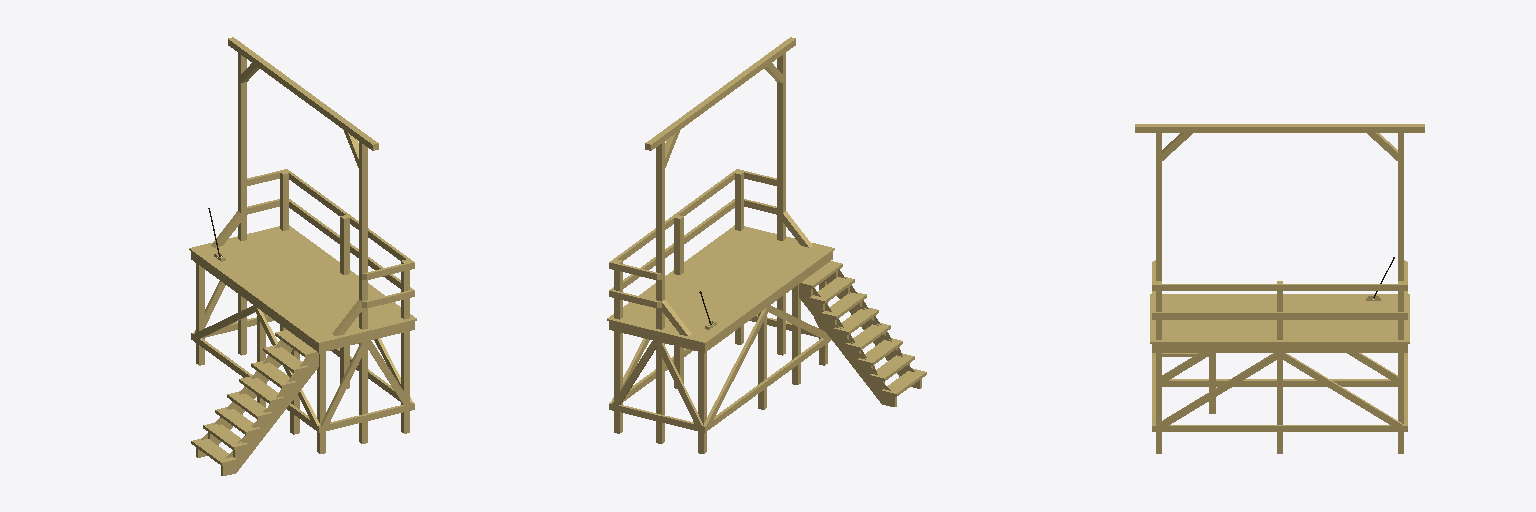
File: hung_wood.obj
The picture shows the model from 3 angles: view 1: azimuth 30°, elevation 25°; view 2: azimuth 150°, elevation 25°; view 3: azimuth 270°, elevation 25°; orthographic projection.
Visible parts, largest first — view 1: Mesh4 Group4 ske14D1 Model, Mesh11 Group11 ske14D1 Model, Mesh138 Group136 ske14D1 Model, Mesh128 Group126 ske14D1 Model, Mesh2 Group2 ske14D1 Model, Mesh9 Group9 ske14D1 Model, Mesh214 Group230 ske14D1 Model, Mesh39 Group39 ske14D1 Model, Mesh215 Group231 ske14D1 Model, Mesh8 Group8 ske14D1 Model, Mesh1 Group1 ske14D1 Model, Mesh139 Group137 ske14D1 Model (+14 smaller); view 2: Mesh11 Group11 ske14D1 Model, Mesh4 Group4 ske14D1 Model, Mesh139 Group137 ske14D1 Model, Mesh128 Group126 ske14D1 Model, Mesh13 Group13 ske14D1 Model, Mesh41 Group41 ske14D1 Model, Mesh9 Group9 ske14D1 Model, Mesh214 Group230 ske14D1 Model, Mesh39 Group39 ske14D1 Model, Mesh45 Group45 ske14D1 Model, Mesh138 Group136 ske14D1 Model, Mesh215 Group231 ske14D1 Model (+15 smaller); view 3: Mesh128 Group126 ske14D1 Model, Mesh7 Group7 ske14D1 Model, Mesh215 Group231 ske14D1 Model, Mesh214 Group230 ske14D1 Model, Mesh38 Group38 ske14D1 Model, Mesh41 Group41 ske14D1 Model, Mesh42 Group42 ske14D1 Model, Mesh43 Group43 ske14D1 Model, Mesh4 Group4 ske14D1 Model, Mesh11 Group11 ske14D1 Model, Mesh2 Group2 ske14D1 Model, Mesh13 Group13 ske14D1 Model (+1 smaller).
Part boxes in pixels (x1,y1,x2,y2): Mesh4 Group4 ske14D1 Model: (359, 141, 367, 443); Mesh11 Group11 ske14D1 Model: (238, 53, 246, 355); Mesh138 Group136 ske14D1 Model: (221, 355, 318, 475); Mesh128 Group126 ske14D1 Model: (228, 37, 378, 150); Mesh2 Group2 ske14D1 Model: (401, 259, 409, 433); Mesh9 Group9 ske14D1 Model: (191, 252, 321, 352); Mesh214 Group230 ske14D1 Model: (284, 169, 414, 268); Mesh39 Group39 ske14D1 Model: (340, 215, 349, 388); Mesh215 Group231 ske14D1 Model: (289, 199, 414, 296); Mesh8 Group8 ske14D1 Model: (322, 322, 411, 351); Mesh1 Group1 ske14D1 Model: (317, 352, 325, 453); Mesh139 Group137 ske14D1 Model: (196, 340, 292, 457); Mesh11 Group11 ske14D1 Model: (656, 141, 664, 443); Mesh4 Group4 ske14D1 Model: (777, 53, 785, 355); Mesh139 Group137 ske14D1 Model: (799, 286, 896, 406); Mesh128 Group126 ske14D1 Model: (645, 37, 795, 150); Mesh13 Group13 ske14D1 Model: (614, 259, 622, 433); Mesh41 Group41 ske14D1 Model: (707, 336, 830, 430); Mesh9 Group9 ske14D1 Model: (702, 252, 832, 352); Mesh214 Group230 ske14D1 Model: (609, 169, 739, 268); Mesh39 Group39 ske14D1 Model: (674, 215, 683, 388); Mesh45 Group45 ske14D1 Model: (704, 306, 768, 425); Mesh138 Group136 ske14D1 Model: (825, 269, 921, 388); Mesh215 Group231 ske14D1 Model: (609, 199, 734, 296); Mesh128 Group126 ske14D1 Model: (1135, 124, 1424, 132); Mesh7 Group7 ske14D1 Model: (1152, 344, 1407, 352); Mesh215 Group231 ske14D1 Model: (1152, 312, 1407, 319); Mesh214 Group230 ske14D1 Model: (1152, 284, 1407, 290); Mesh38 Group38 ske14D1 Model: (1156, 425, 1403, 431); Mesh41 Group41 ske14D1 Model: (1162, 379, 1397, 386); Mesh42 Group42 ske14D1 Model: (1280, 353, 1403, 425); Mesh43 Group43 ske14D1 Model: (1156, 353, 1279, 425); Mesh4 Group4 ske14D1 Model: (1156, 133, 1161, 280); Mesh11 Group11 ske14D1 Model: (1398, 133, 1403, 280); Mesh2 Group2 ske14D1 Model: (1156, 281, 1161, 453); Mesh13 Group13 ske14D1 Model: (1398, 281, 1403, 453).
Bounding box in the file's own units: 129 × 196 × 168.